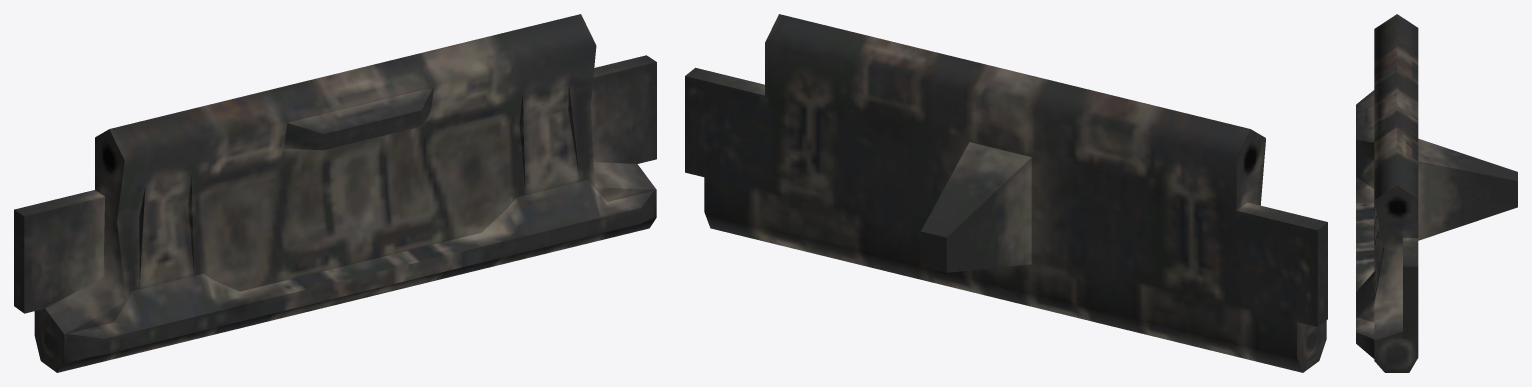
3 renders of one model, left to right at view 1: azimuth 30°, elevation 25°; view 2: azimuth 150°, elevation 25°; view 3: azimuth 270°, elevation 25°, orthographic. The views are drawn at different scales.
Visible parts, largest first — view 1: set_0_group_0; view 2: set_0_group_0; view 3: set_0_group_0.
Part boxes in pixels (<box>): set_0_group_0: <box>14,14,656,372</box>; set_0_group_0: <box>685,14,1327,372</box>; set_0_group_0: <box>1356,14,1517,372</box>.
Size of the model in its own units: 0.6491 by 0.2188 by 0.1932.
Materials: 1 (1 with a texture image).
